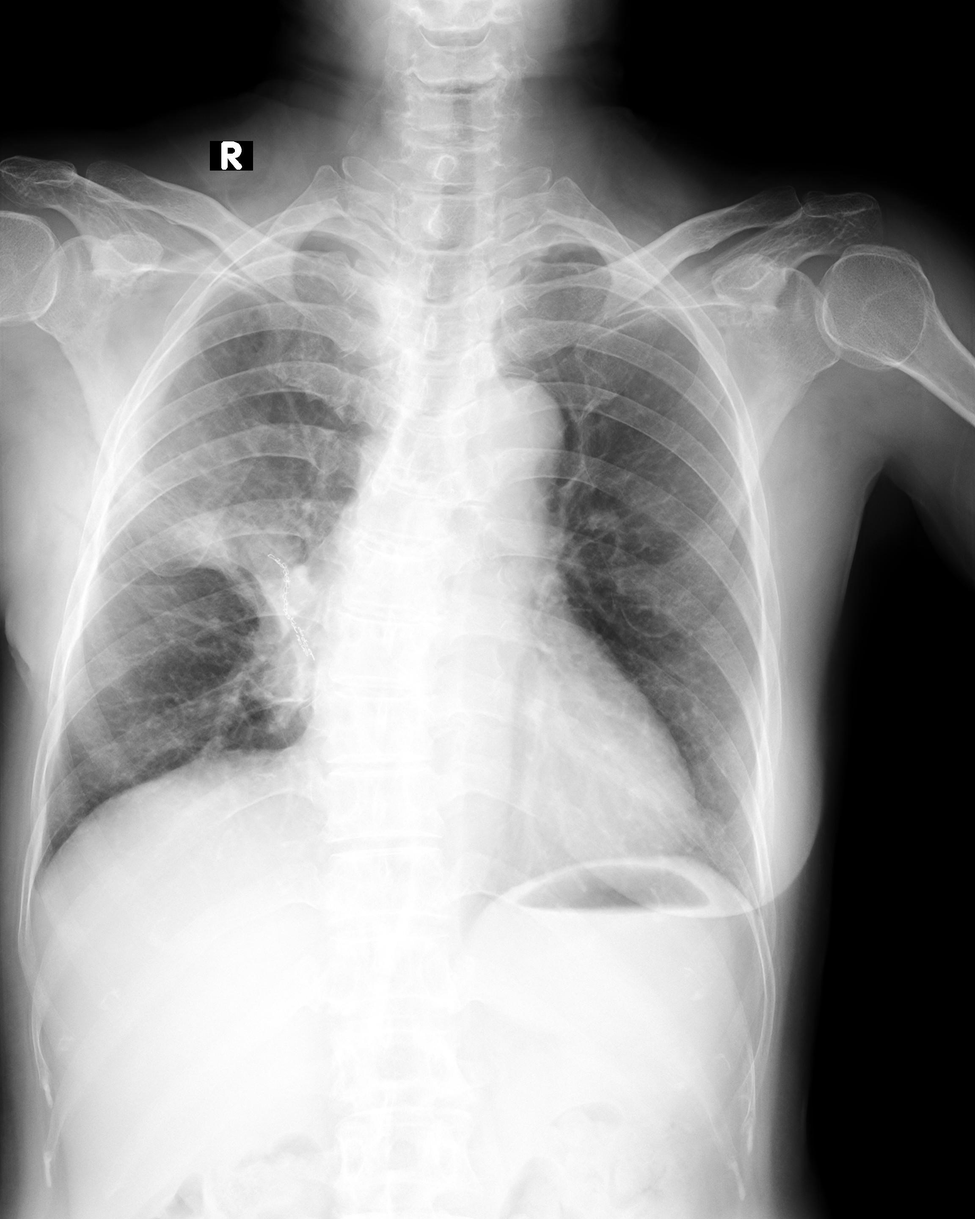Aortic enlargement: (447, 374, 567, 498)
Cardiomegaly: (311, 661, 703, 861)
Pleural thickening: (502, 239, 588, 281), (297, 226, 377, 264)
Pulmonary fibrosis: (125, 430, 303, 650)
